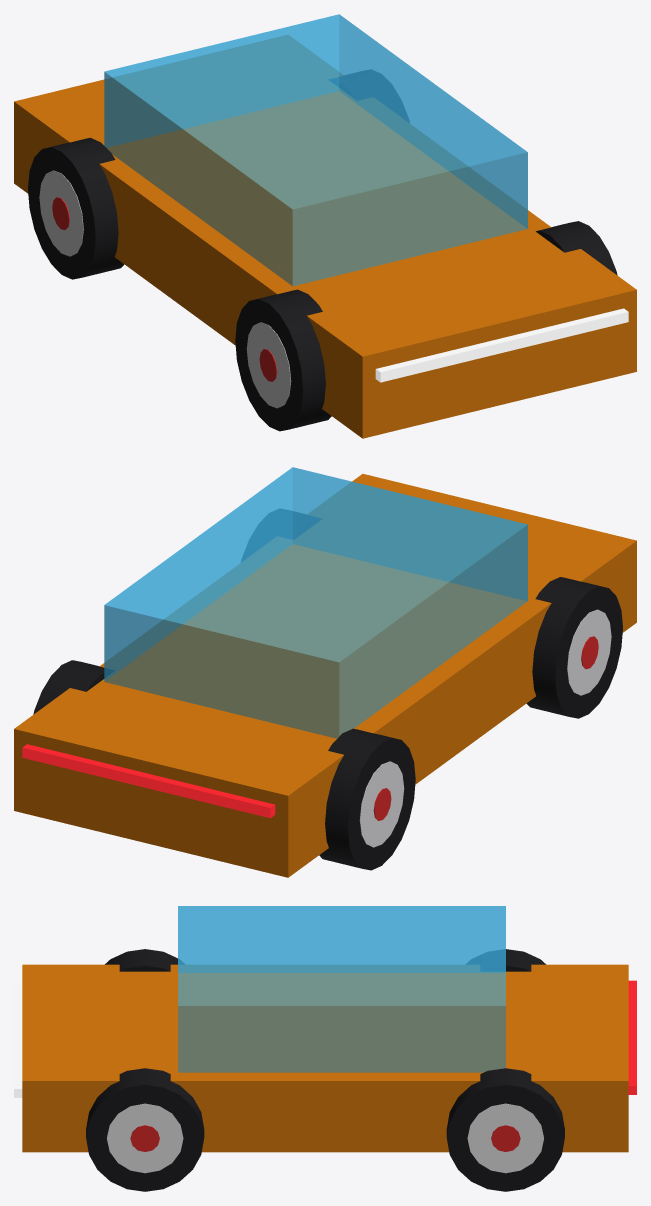
The model's file is toyota_prius.glb.
3 views of the same model, one above another, from view 1: azimuth 30°, elevation 25°; view 2: azimuth 150°, elevation 25°; view 3: azimuth 270°, elevation 25° (orthographic). The views are drawn at different scales.
Size of the model in its own units: 0.5196 by 0.2974 by 1.
